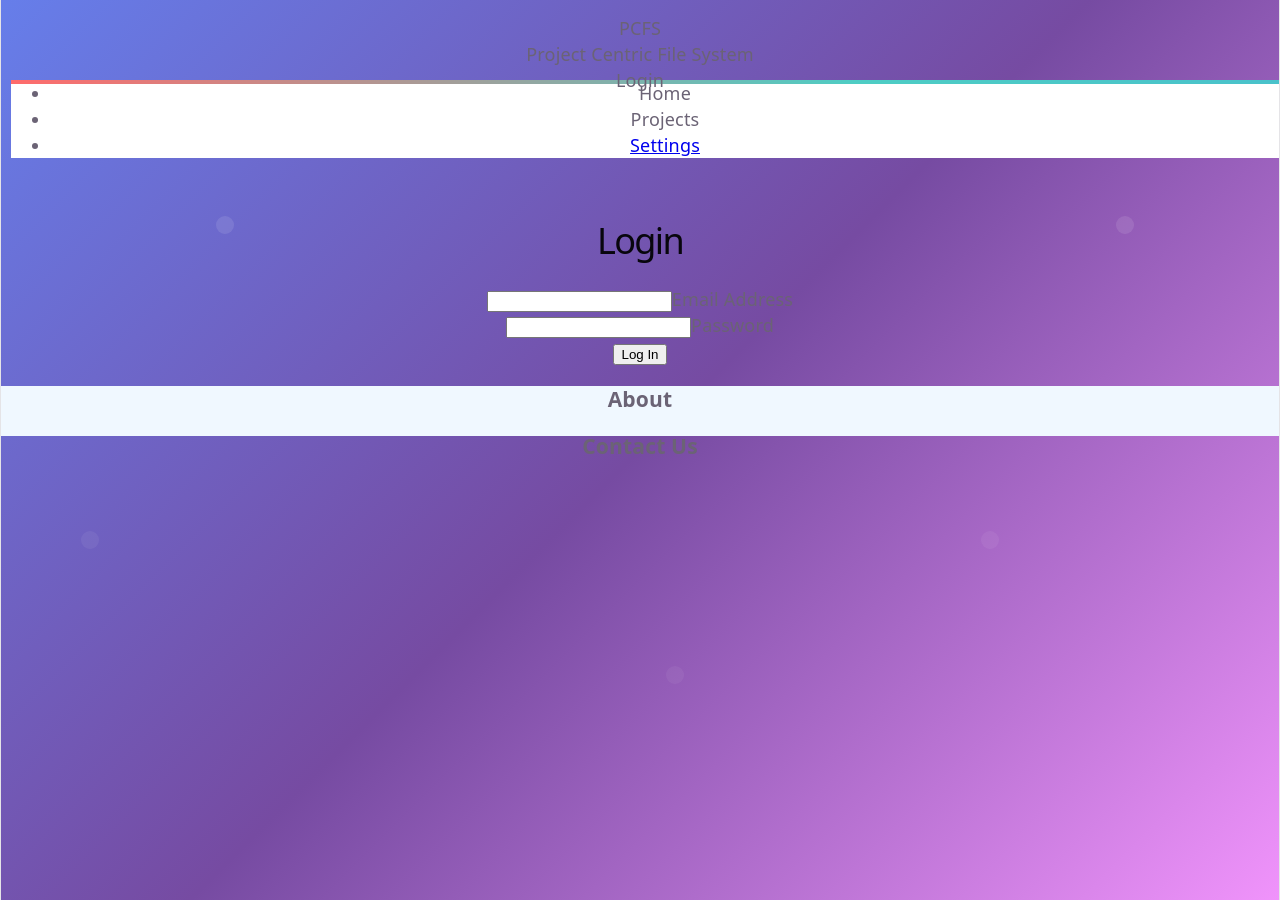
Test: Login form › shows error when email is empty
Click the button with test id "login-button" at (640, 354), box [614,344,667,365]
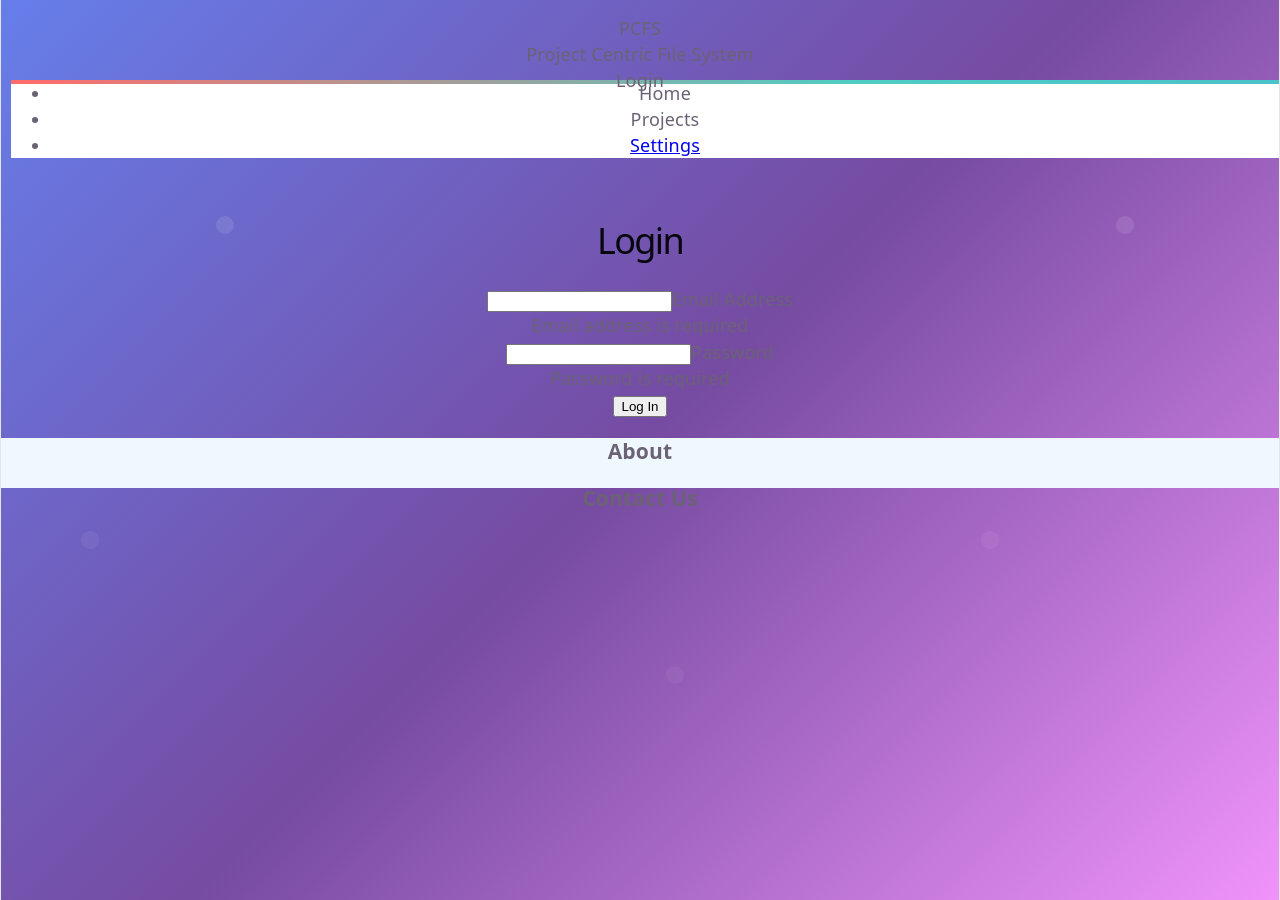
Check: the text "Email address is required" is shown, box [531,314,748,338]
